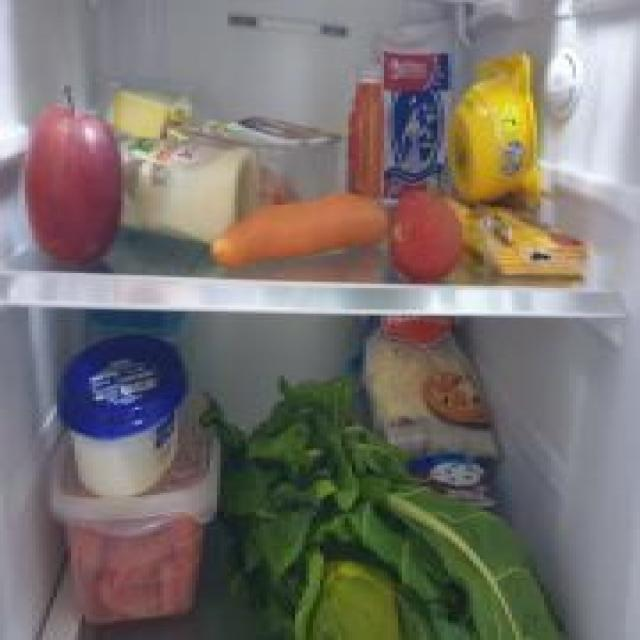apple: (23, 88, 122, 262)
carrot: (210, 190, 392, 269)
cheese: (58, 332, 190, 490)
grated_cheese: (360, 313, 500, 467)
mayonaise: (120, 133, 260, 234)
pak_choi: (226, 407, 564, 640)
tomato: (393, 192, 464, 280)
